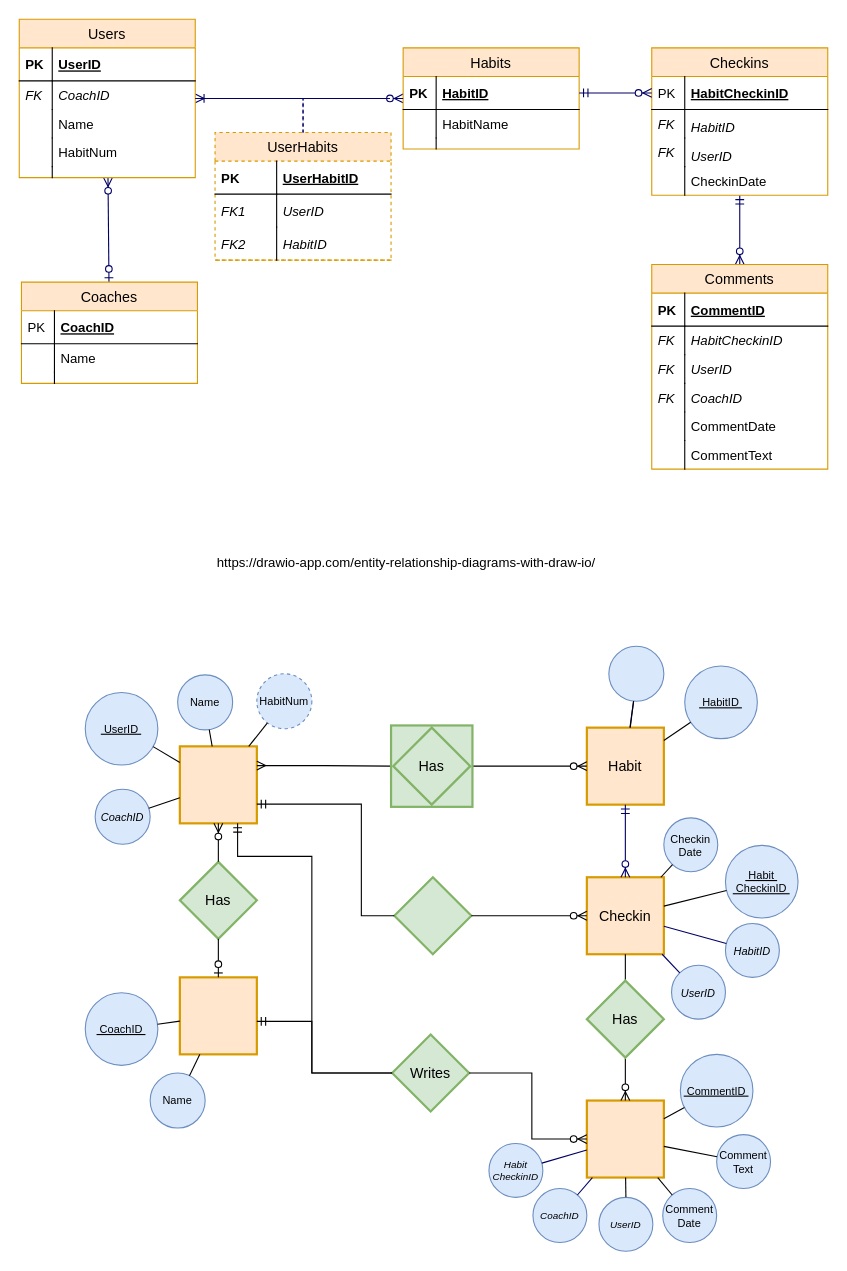
Image size: 847x1271. Some labels were removed from this diagram. Each missing label, with the centre of its shape:
"Coach" goes at point 217,1015.
"Comment" goes at point 624,1138.
"Does" goes at point 432,915.
"Habit Name" goes at point 636,673.
"User" goes at point 217,784.
